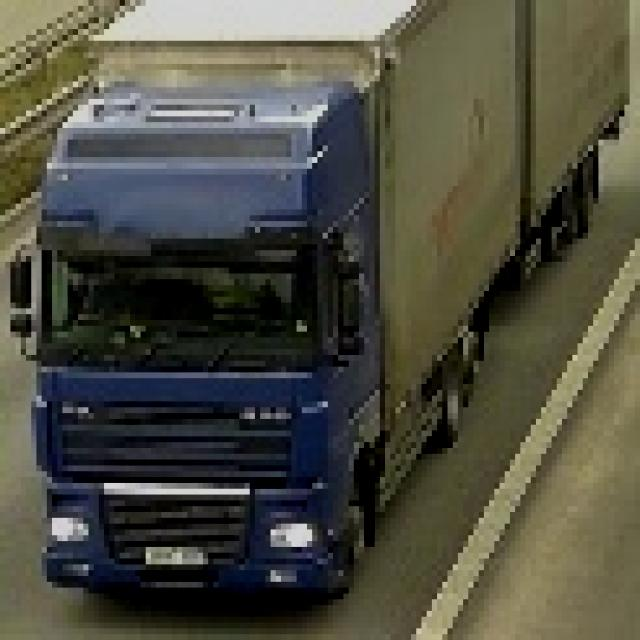TRUCK: (23, 0, 637, 605)
